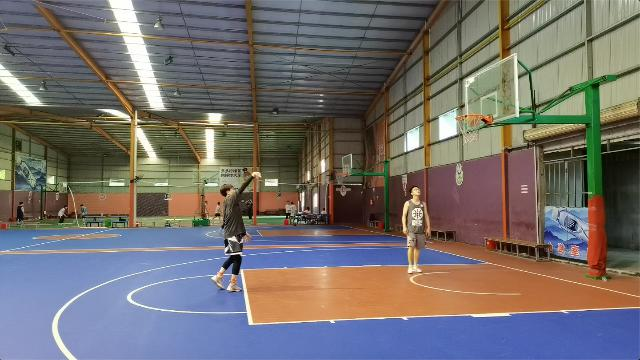basket: (455, 113, 483, 143)
goal: (468, 112, 480, 124)
